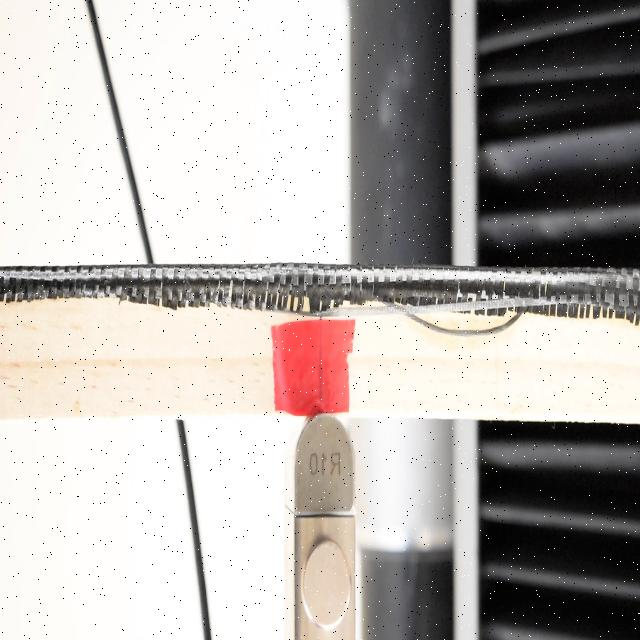wood: (0, 267, 640, 420)
